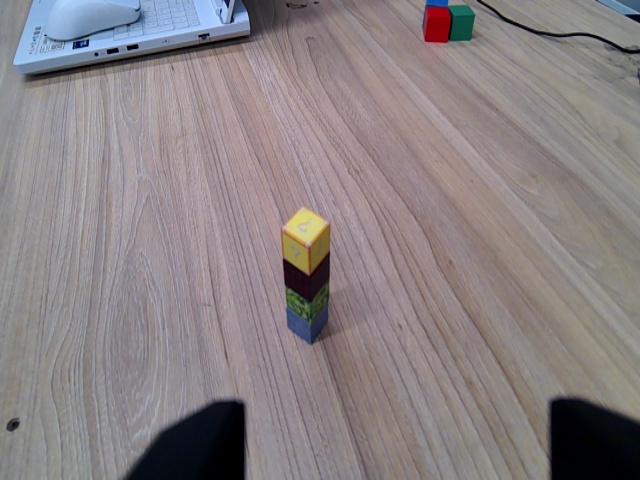brick: (280, 261, 332, 289)
grass: (282, 290, 332, 313)
lucky: (283, 208, 332, 260)
stone: (285, 315, 331, 341)
